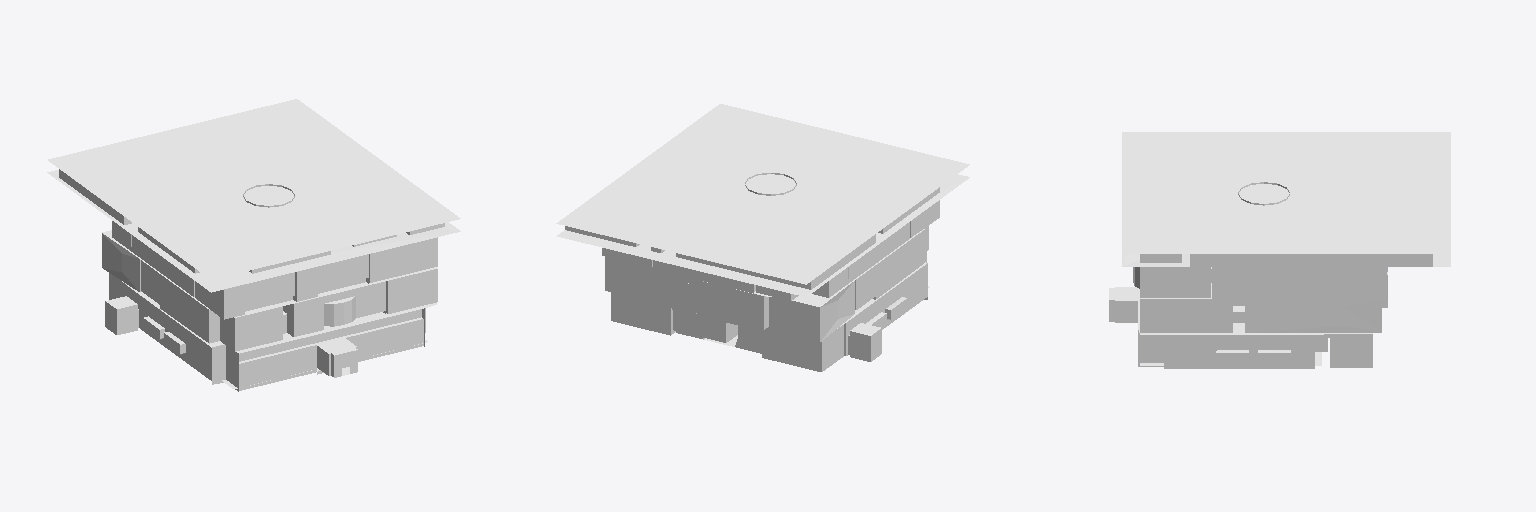
File: delfino4_DS_Low_Poly_v2.obj
The picture shows the model from 3 angles: view 1: azimuth 30°, elevation 25°; view 2: azimuth 150°, elevation 25°; view 3: azimuth 270°, elevation 25°; orthographic projection.
Visible parts, largest first — view 1: Mesh.001_Mesh_delfino4_No_Texture_RemDupVer; view 2: Mesh.001_Mesh_delfino4_No_Texture_RemDupVer; view 3: Mesh.001_Mesh_delfino4_No_Texture_RemDupVer.
Part boxes in pixels (x1,y1,x2,y2): Mesh.001_Mesh_delfino4_No_Texture_RemDupVer: (47,99,460,391); Mesh.001_Mesh_delfino4_No_Texture_RemDupVer: (556,104,969,371); Mesh.001_Mesh_delfino4_No_Texture_RemDupVer: (1109,132,1450,368).
Size of the model in its own units: 56.3 by 27.82 by 65.74.